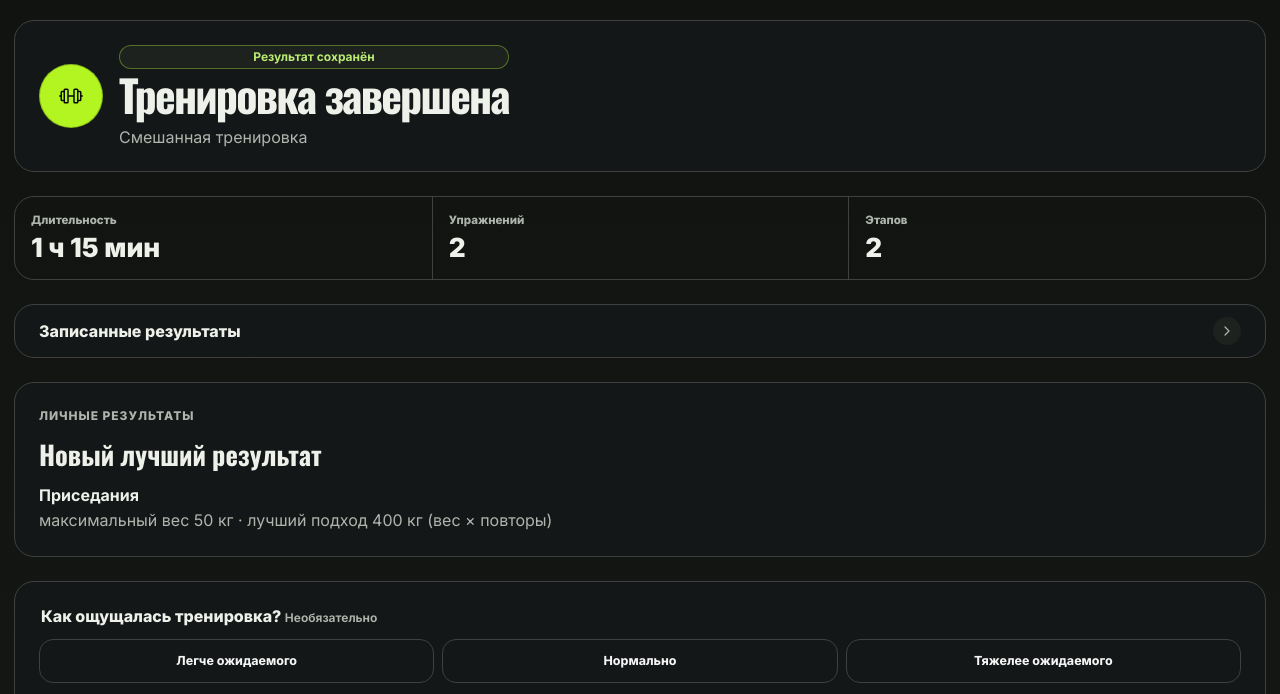
Scenario: WorkoutCompletionSummary › показывает cardio-результат без терминов силового подхода
This screenshot has width=1280, height=694.
Check: the text "Этапов" is shown, box [865, 213, 908, 227]
Click the heading "Записанные результаты". click: [140, 331]
box: [39, 309, 1241, 353]
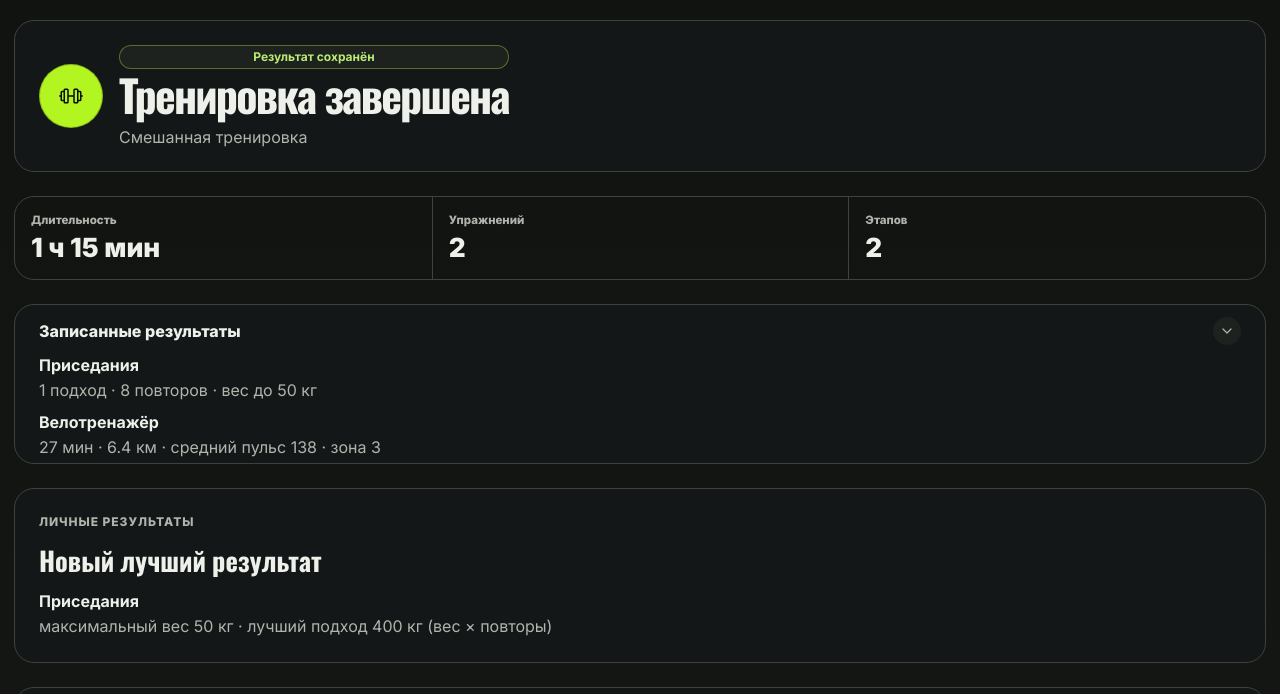
Check: the list item "Велотренажёр" shows "27 мин · 6.4 км · средний пульс 138 · зона 3", box [39, 437, 381, 457]
